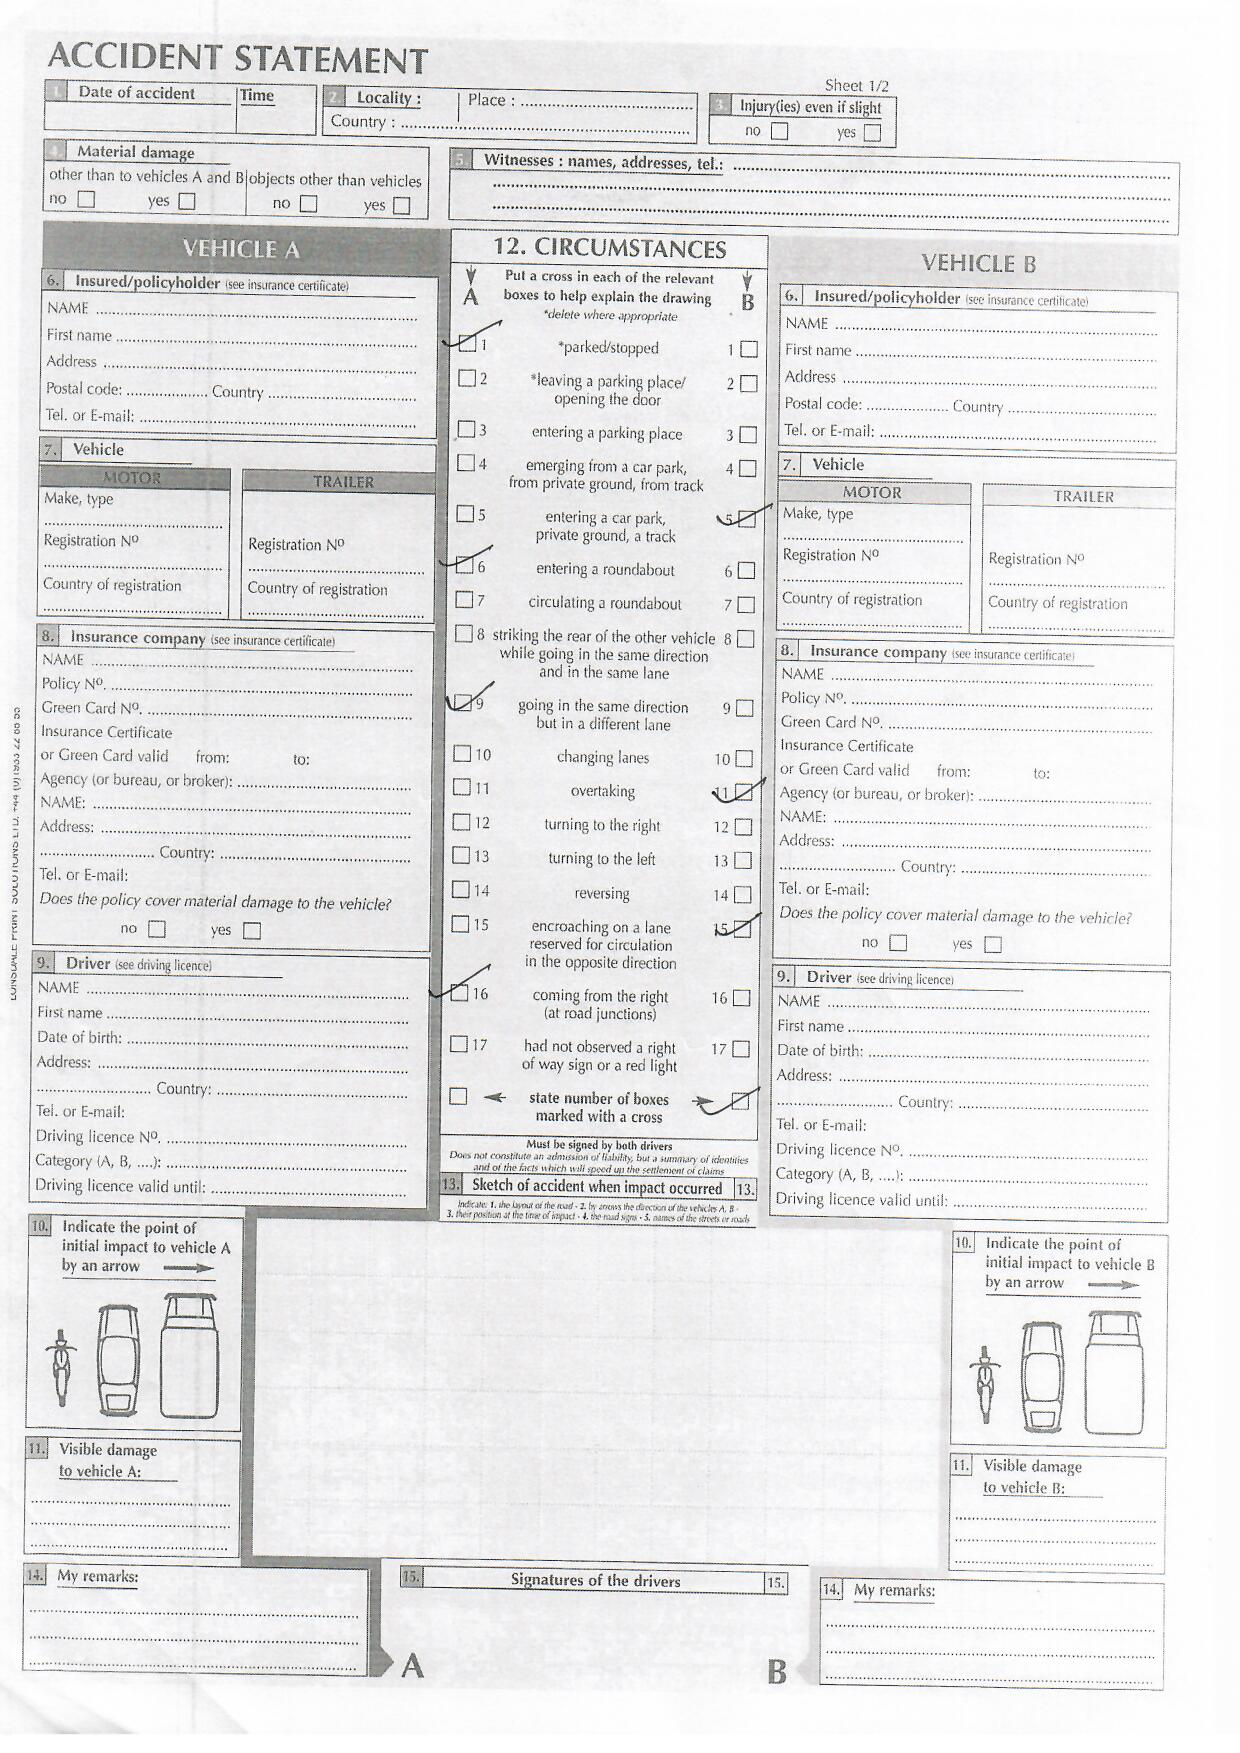a: (733, 505, 760, 533), (451, 550, 478, 579), (730, 915, 756, 944), (447, 980, 472, 1005), (731, 779, 756, 805), (450, 690, 474, 715), (455, 332, 479, 354)
